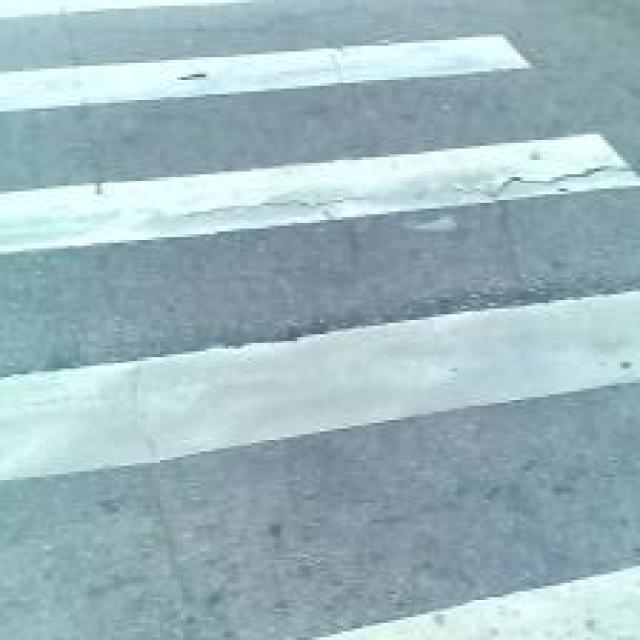walk-crossing: (3, 54, 637, 640)
